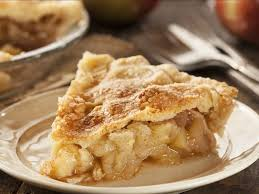damaged_apple: (203, 2, 257, 48)
